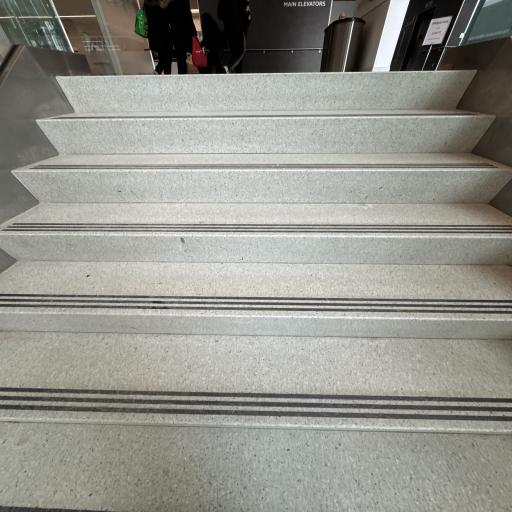Stairs: (0, 71, 512, 512), (0, 203, 512, 295)
